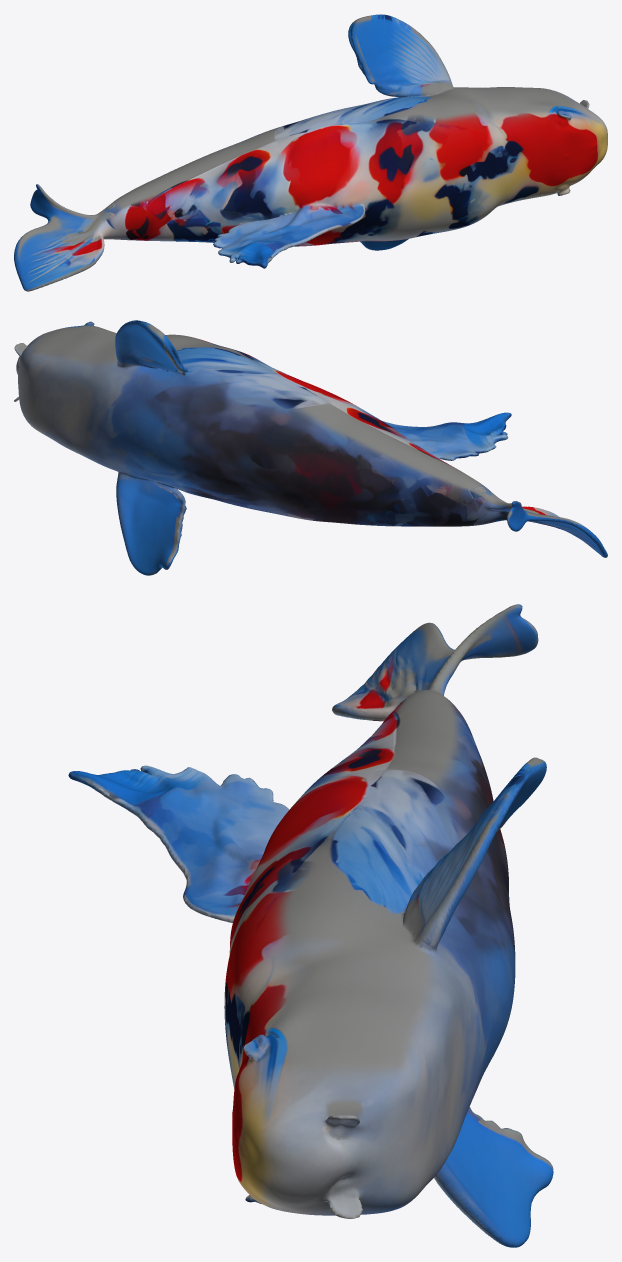
The model's file is sanke-koi.glb.
3 renders of one model, top to bottom at view 1: azimuth 30°, elevation 25°; view 2: azimuth 150°, elevation 25°; view 3: azimuth 270°, elevation 25°, orthographic. The views are drawn at different scales.
Parts seen in each view (by area): view 1: tripo_node_19191771-2702-4c89-8c98-be4a1075f5a1; view 2: tripo_node_19191771-2702-4c89-8c98-be4a1075f5a1; view 3: tripo_node_19191771-2702-4c89-8c98-be4a1075f5a1.
Part boxes in pixels (bbox=[...]): tripo_node_19191771-2702-4c89-8c98-be4a1075f5a1: bbox=[14, 14, 607, 291]; tripo_node_19191771-2702-4c89-8c98-be4a1075f5a1: bbox=[14, 320, 607, 575]; tripo_node_19191771-2702-4c89-8c98-be4a1075f5a1: bbox=[68, 604, 553, 1247].
Bounding box in the file's own units: 1 × 0.3989 × 0.3721.
Materials: 1 (1 with a texture image).
